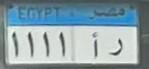1: (40, 26, 53, 59), (25, 27, 38, 58), (9, 28, 21, 56), (56, 28, 66, 59)
أ: (91, 26, 103, 60)
ر: (105, 33, 129, 59)
